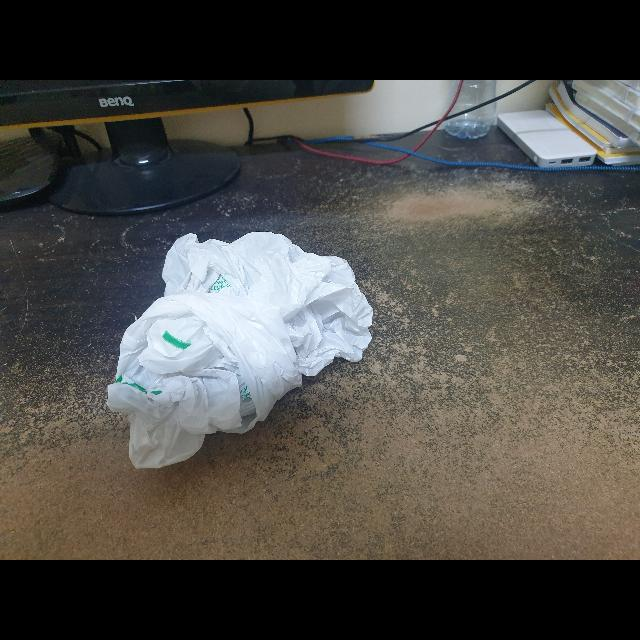plastic_bag: (98, 220, 386, 480)
